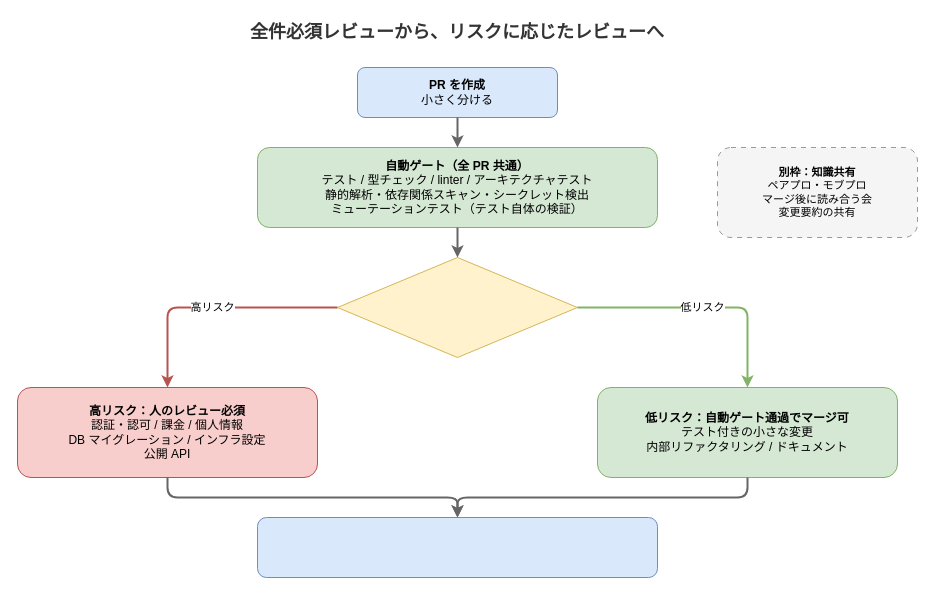
Some shapes in this 935 by 595 pixel diagram are drawn without their labels. The box of each missing label's shape, as (x1, y1, x2, y2) in pixels:
変更したパスで振り分け （CODEOWNERS ＋ 必須ステータスチェック）: (336, 256, 578, 358)
本番側の安全網 フィーチャーフラグ / カナリアリリース / 監視 / ロールバック: (256, 516, 658, 578)
